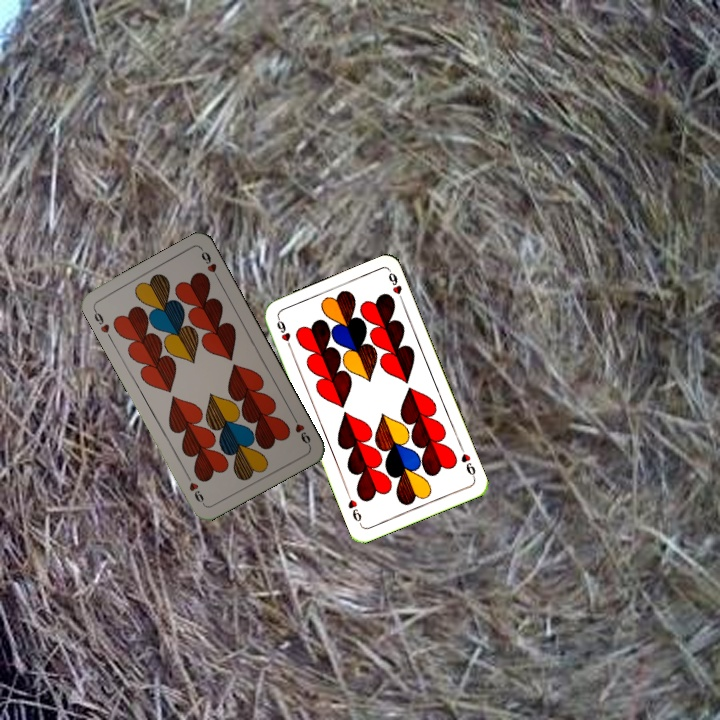H9: (288, 411, 313, 448), (456, 442, 478, 481), (273, 313, 295, 352), (89, 305, 112, 335)
